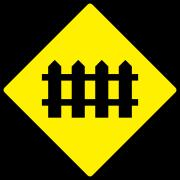Barrier Ahead: (12, 14, 172, 161)
